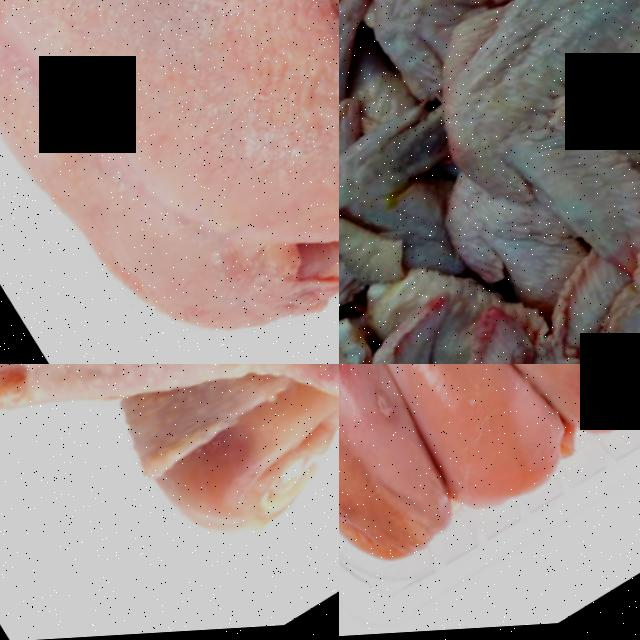chicken breast: (0, 0, 339, 364), (339, 364, 573, 563), (354, 364, 640, 508), (339, 364, 475, 617)
chicken thigh: (0, 364, 339, 605)
chicken wing: (389, 0, 640, 335)
